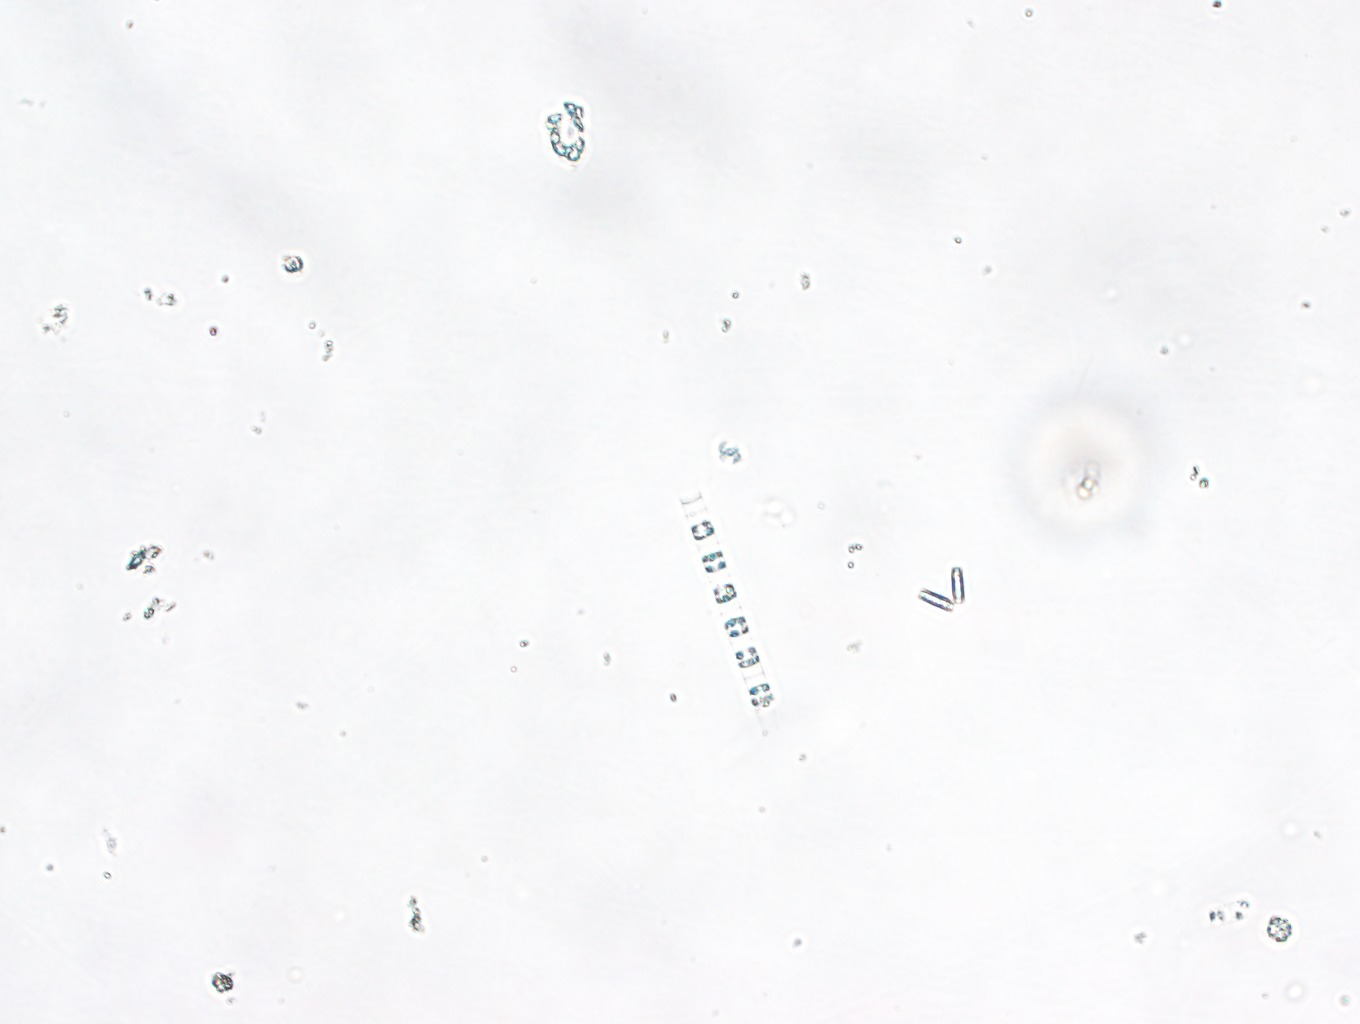skeletonema: (679, 489, 775, 713)
thalassionema nitzschioides: (917, 565, 967, 614)
